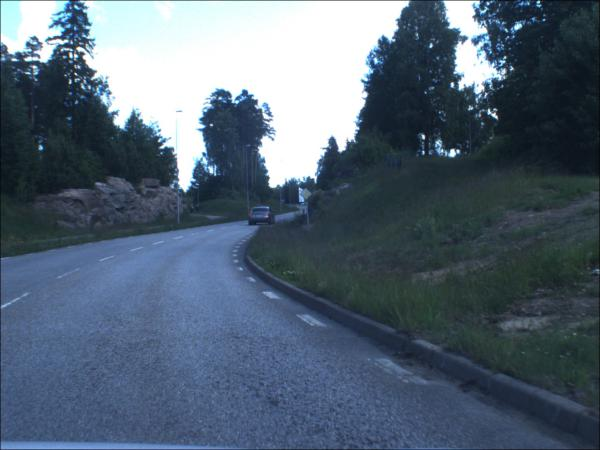PRIORITY_ROAD: (302, 189, 314, 201)
